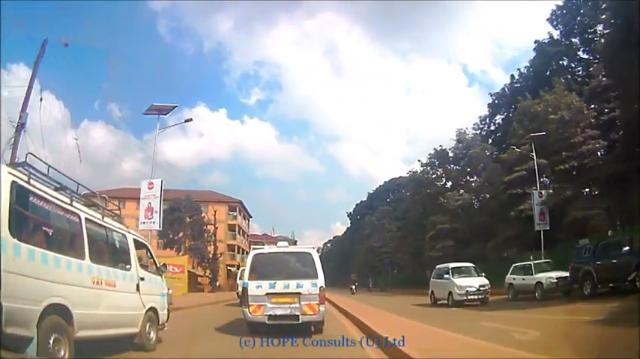car: (567, 238, 640, 298), (427, 262, 492, 307), (504, 259, 572, 301)
van: (0, 155, 174, 359), (241, 240, 328, 333)
